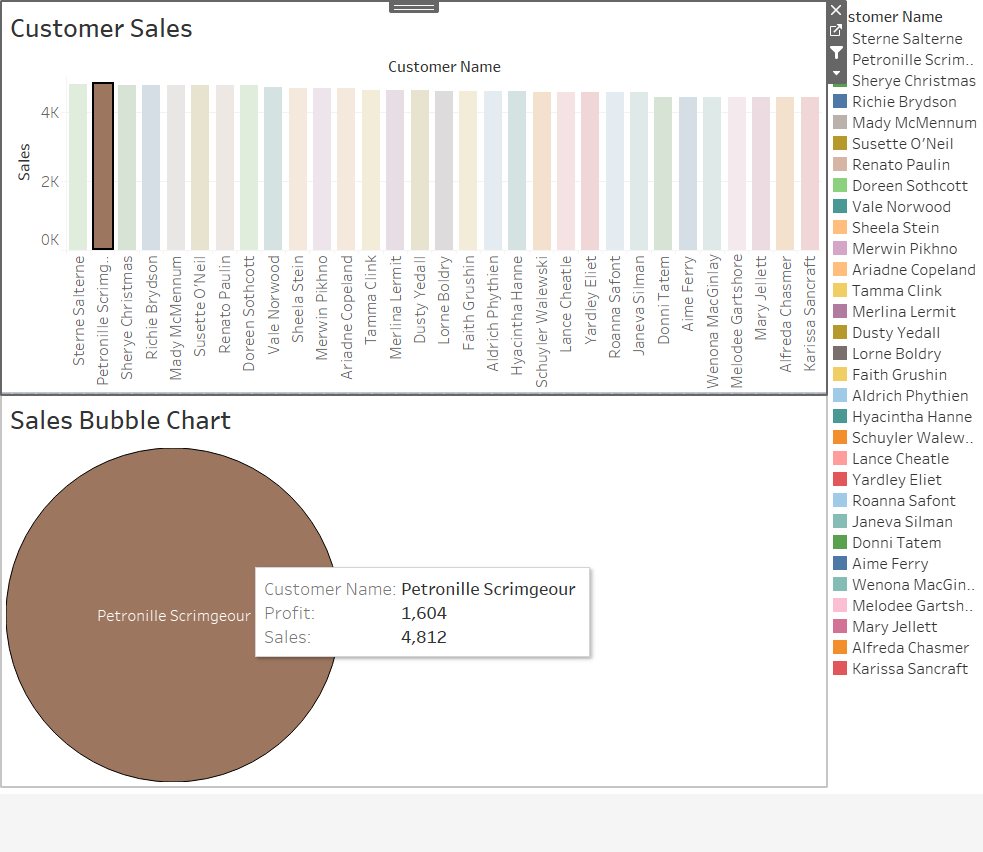

Layout of this report page (visuals, bound fields, positions):
{"tool":"tableau","page":{"name":"Dashboard 1","canvas":[1000,800],"ordinal":0},"visuals":[{"type":"worksheet","title":"Customer Sales","mark":"Automatic","rows":["Sales"],"cols":["Customer Name"],"box":[8,8,824,392]},{"type":"legend","title":"Customer Sales","param":"[federated.16d6ww81erczut1cxtkof14t26kw].[none:Customer Name:nk]","box":[832,8,160,681]},{"type":"worksheet","title":"Sales Bubble chart","mark":"Circle","box":[8,400,824,392]}]}

Visuals, with their boxes in screenshot pixels (x1, y1, x2, y2):
"Customer Sales" worksheet: <bbox>0, 0, 826, 392</bbox>
"Customer Sales" legend: <bbox>826, 0, 982, 682</bbox>
"Sales Bubble chart" worksheet (Circle marks): <bbox>0, 392, 826, 786</bbox>
